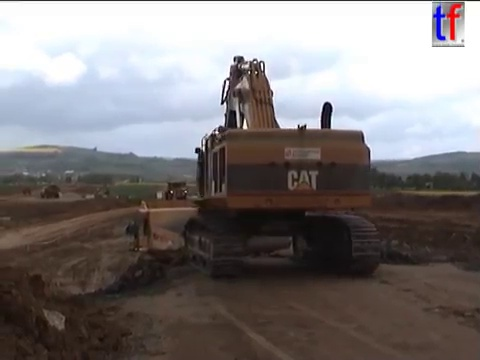excavator: (178, 52, 387, 280), (84, 181, 113, 202)
truck: (123, 199, 297, 285), (161, 178, 191, 202), (38, 182, 64, 200), (20, 185, 35, 198)
